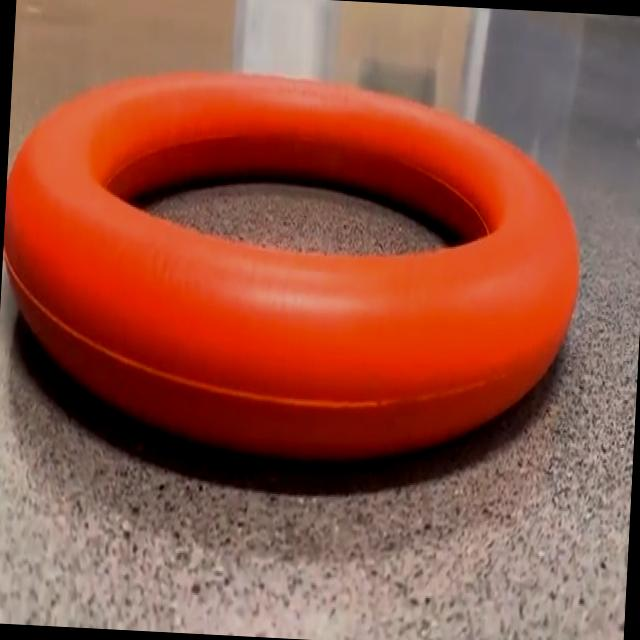note: (3, 73, 579, 460)
